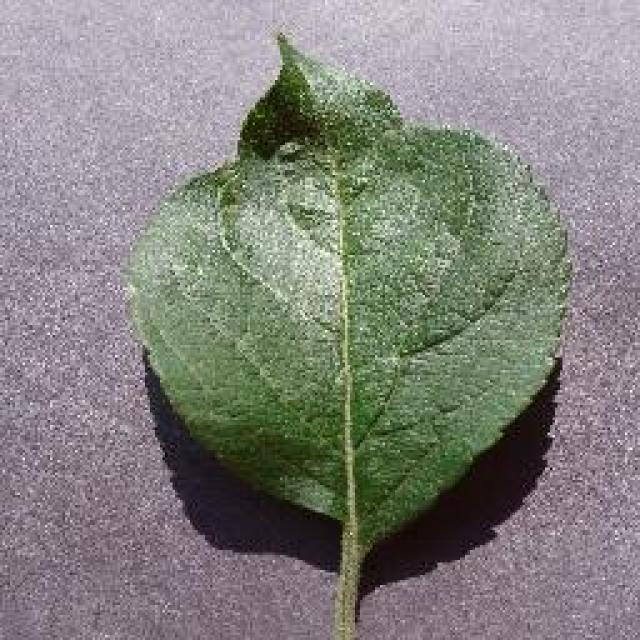apple healthy: (120, 28, 575, 638)
